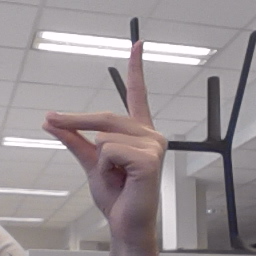K: (40, 37, 169, 231)
